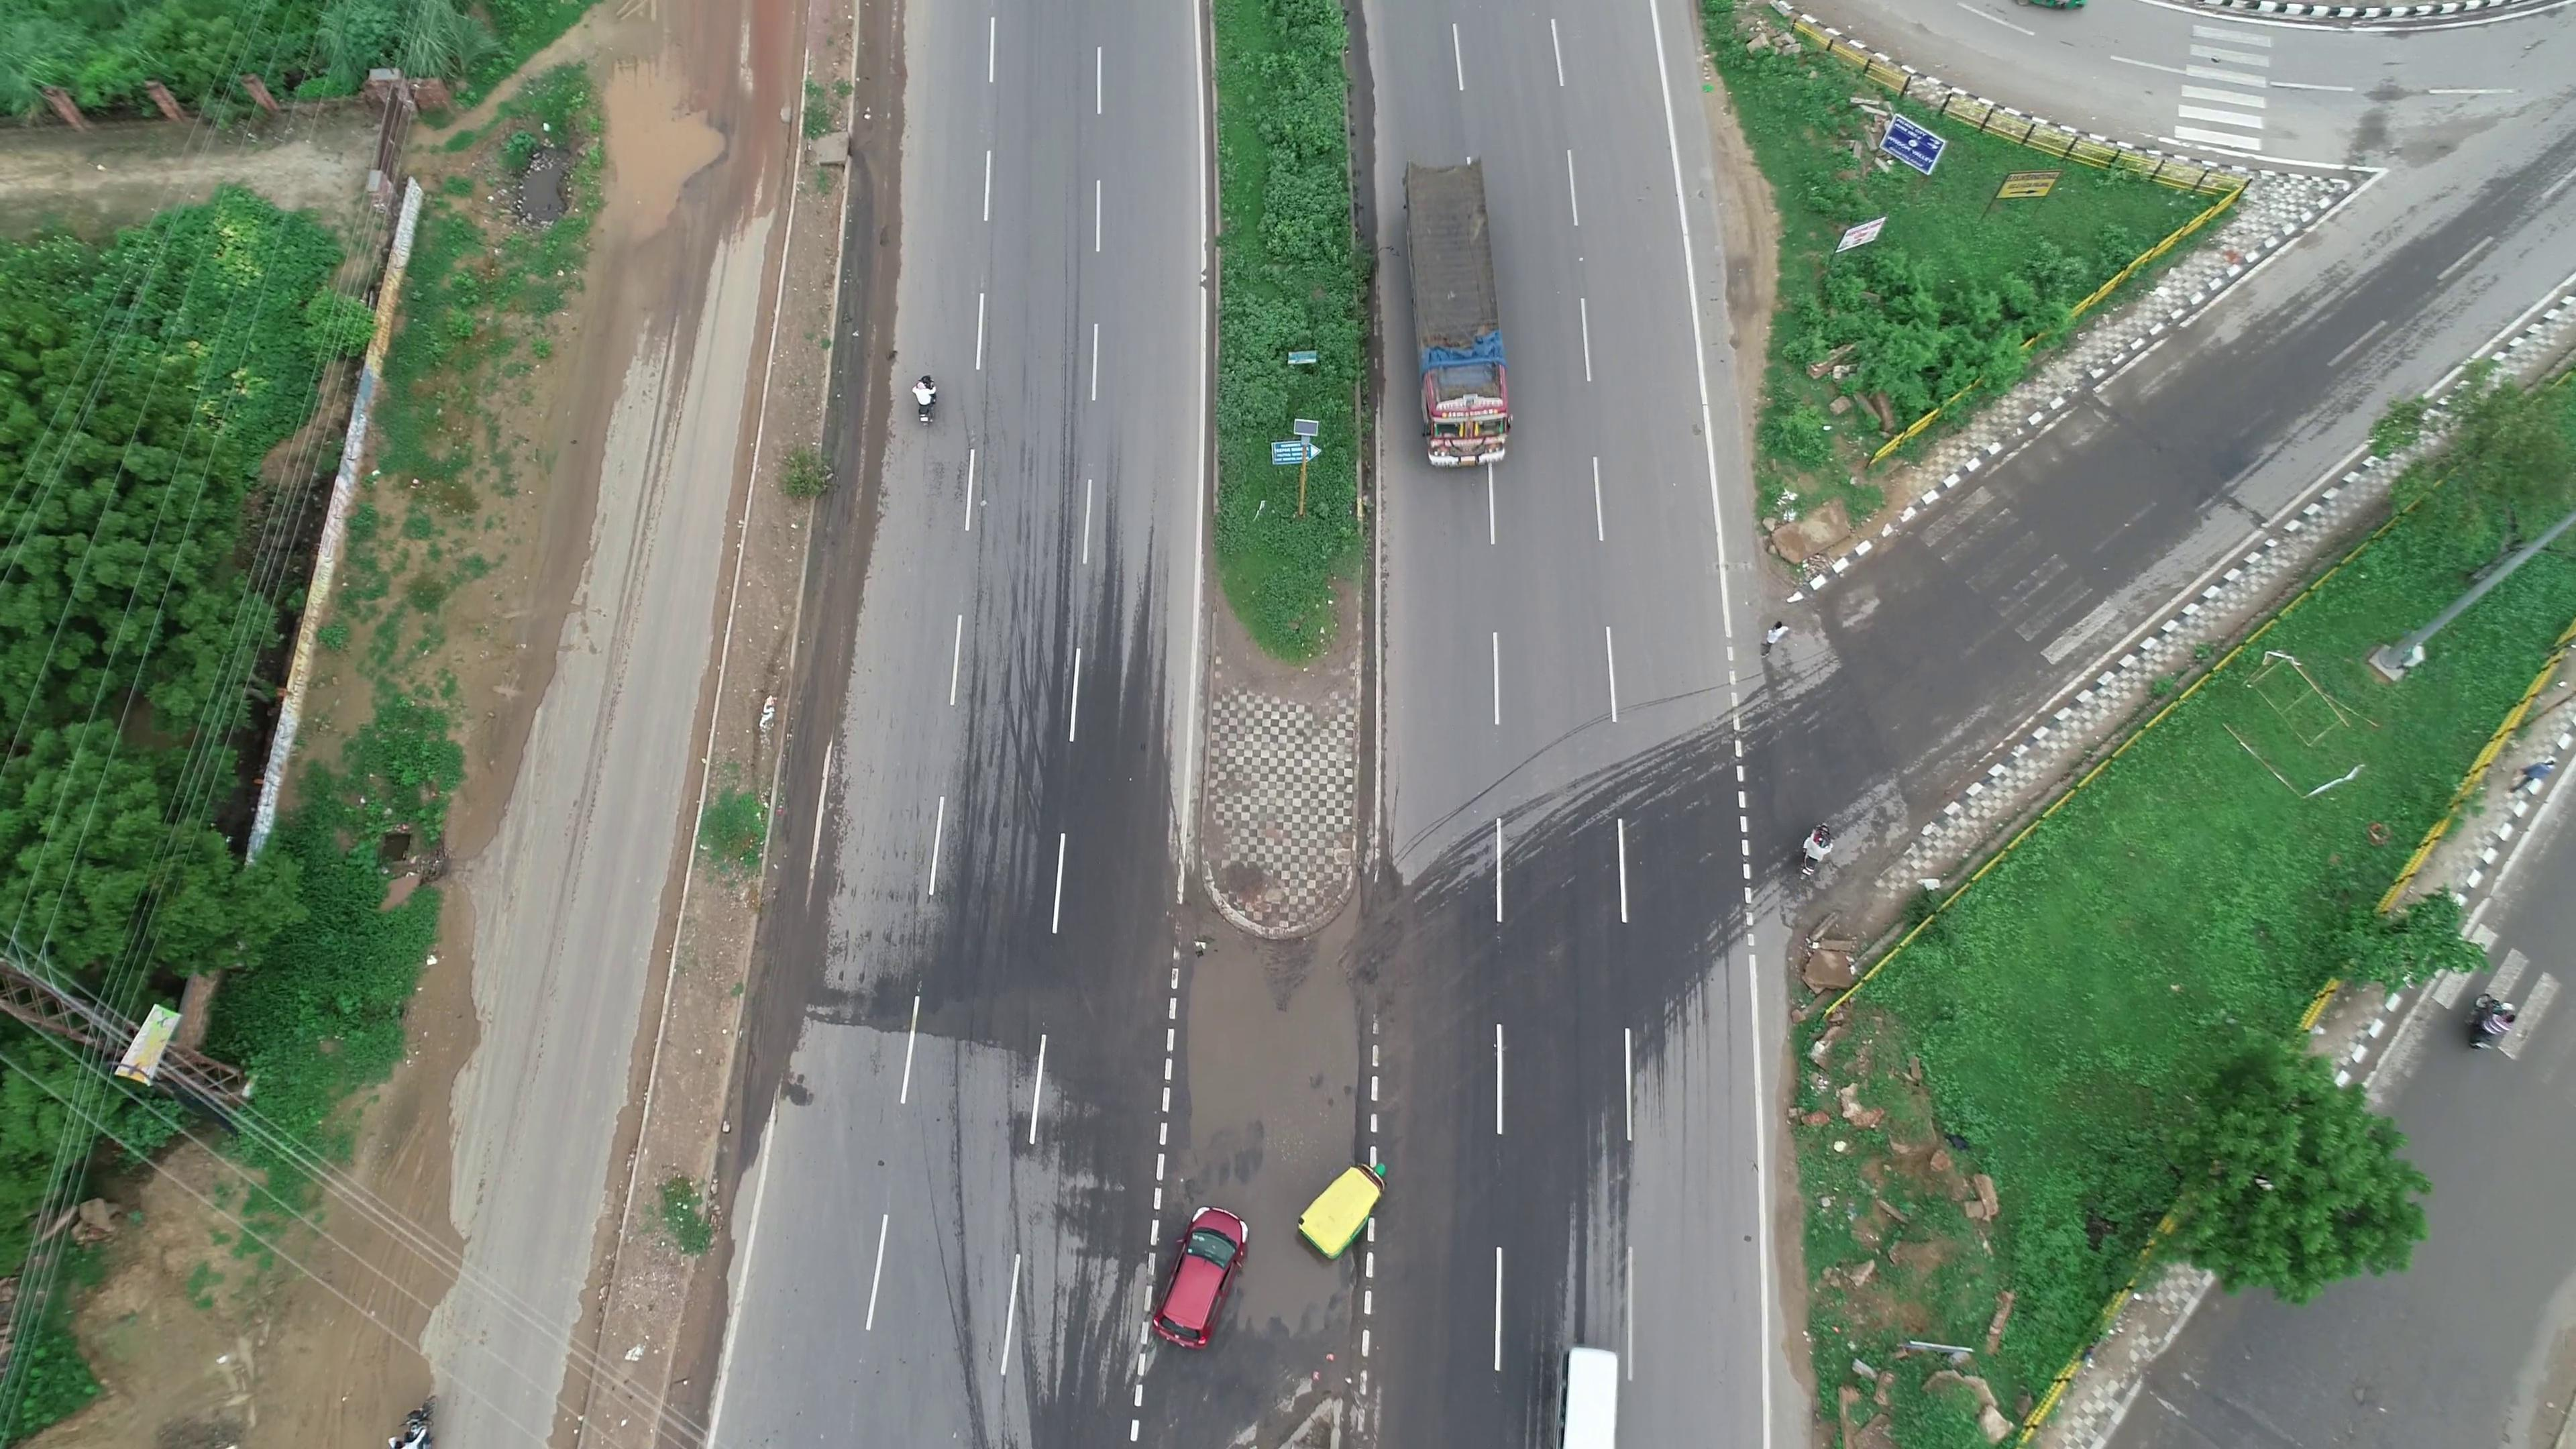Waterlogging: (1162, 936, 1419, 1182)
